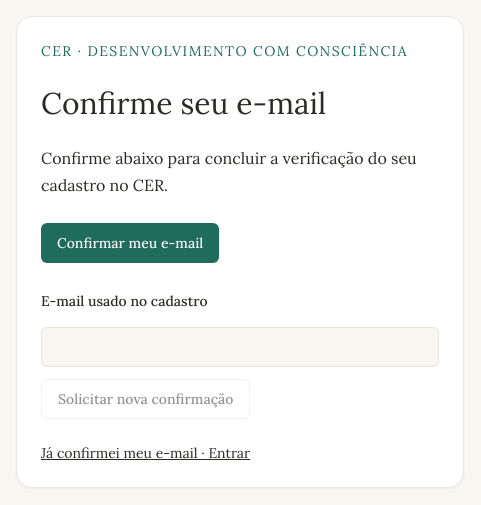
Test: removes token from history and waits for explicit confirmation
Click the button "Confirmar meu e-mail" at (130, 243), box [41,223,219,263]
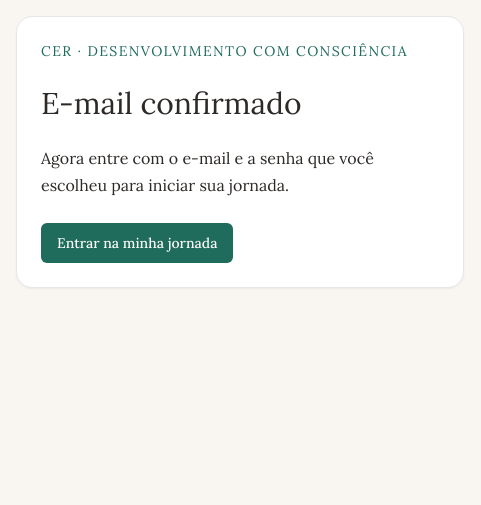
Expected: the heading "E-mail confirmado" is shown, [41,84,302,122]
